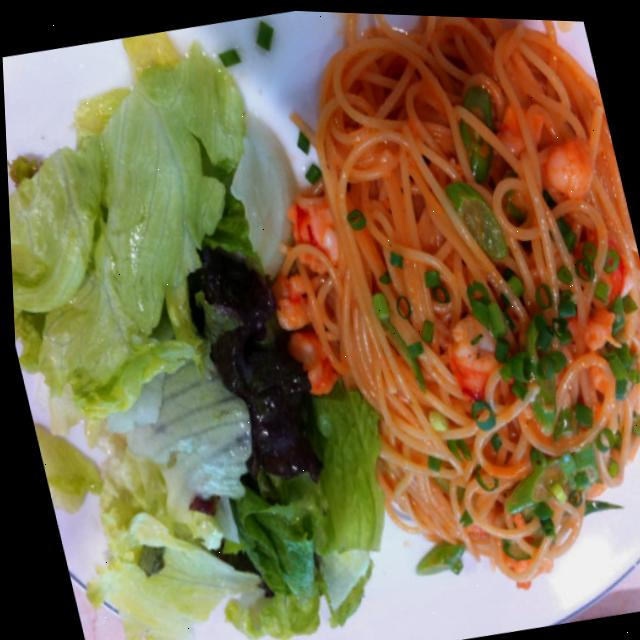蔬菜料理: (1, 18, 425, 640)
